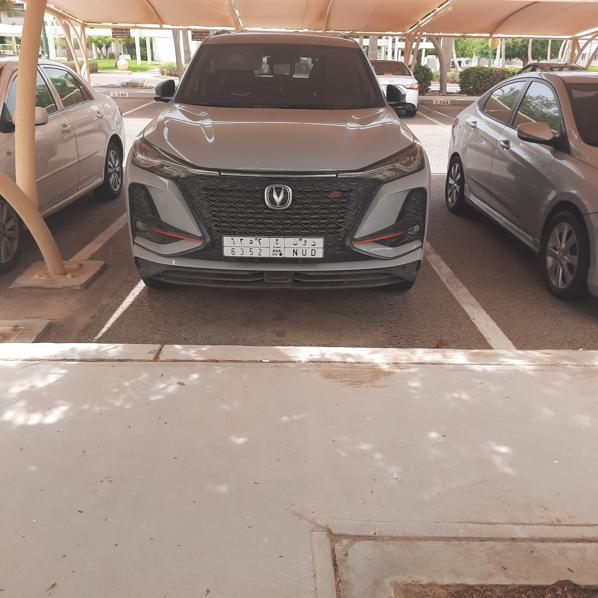numberplate: (220, 235, 326, 259)
